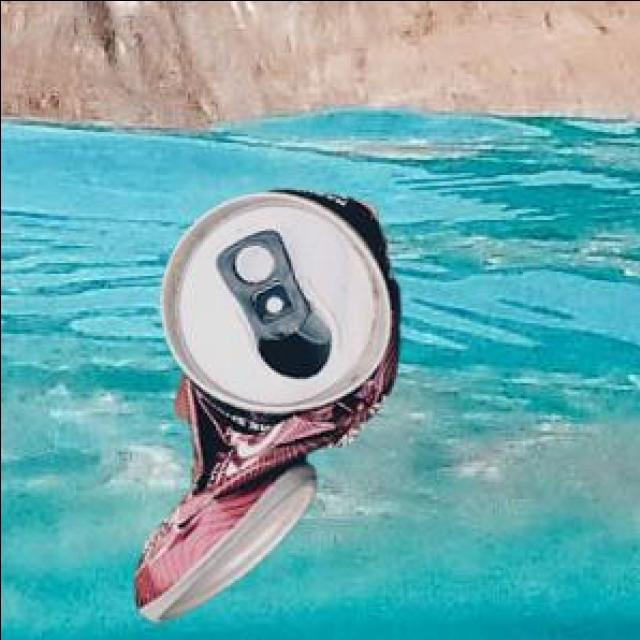logam: (139, 186, 403, 617)
